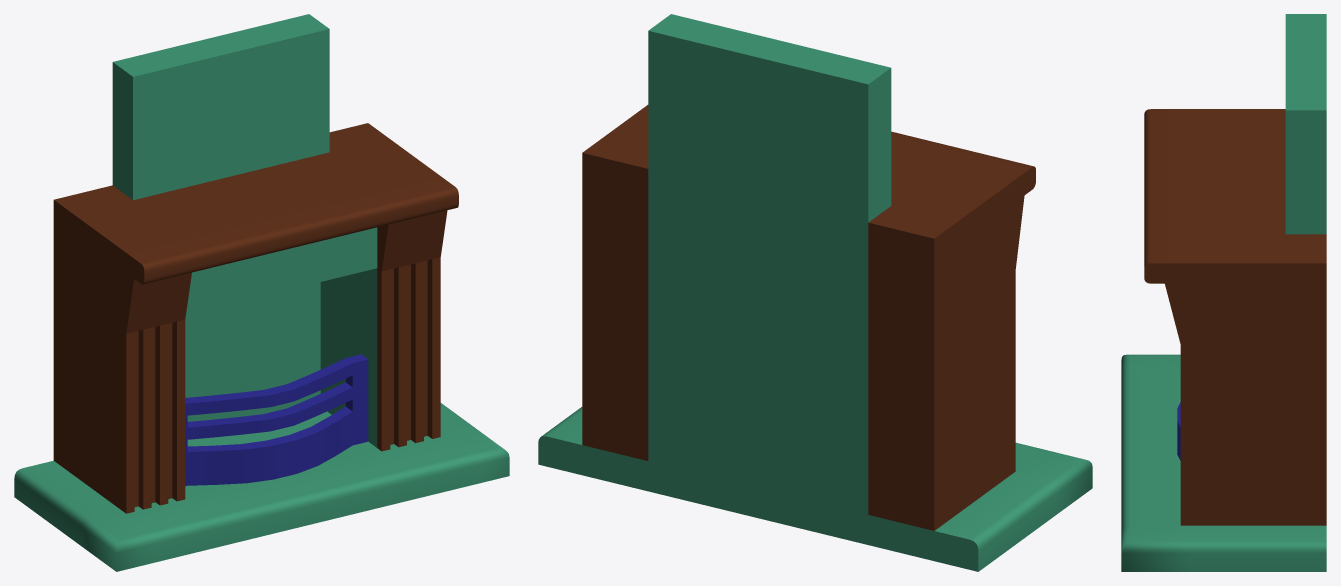
File: Fireplace.FBX
3 views of the same model, side by side, from view 1: azimuth 30°, elevation 25°; view 2: azimuth 150°, elevation 25°; view 3: azimuth 270°, elevation 25° (orthographic). The views are drawn at different scales.
Visible parts, largest first — view 1: Fireplace; view 2: Fireplace; view 3: Fireplace.
Boxes of the visible parts, bbox=[...] form: Fireplace: bbox=[14, 14, 509, 571]; Fireplace: bbox=[538, 14, 1092, 571]; Fireplace: bbox=[1121, 14, 1326, 571].
Bounding box in the file's own units: 5 × 2.25 × 5.
